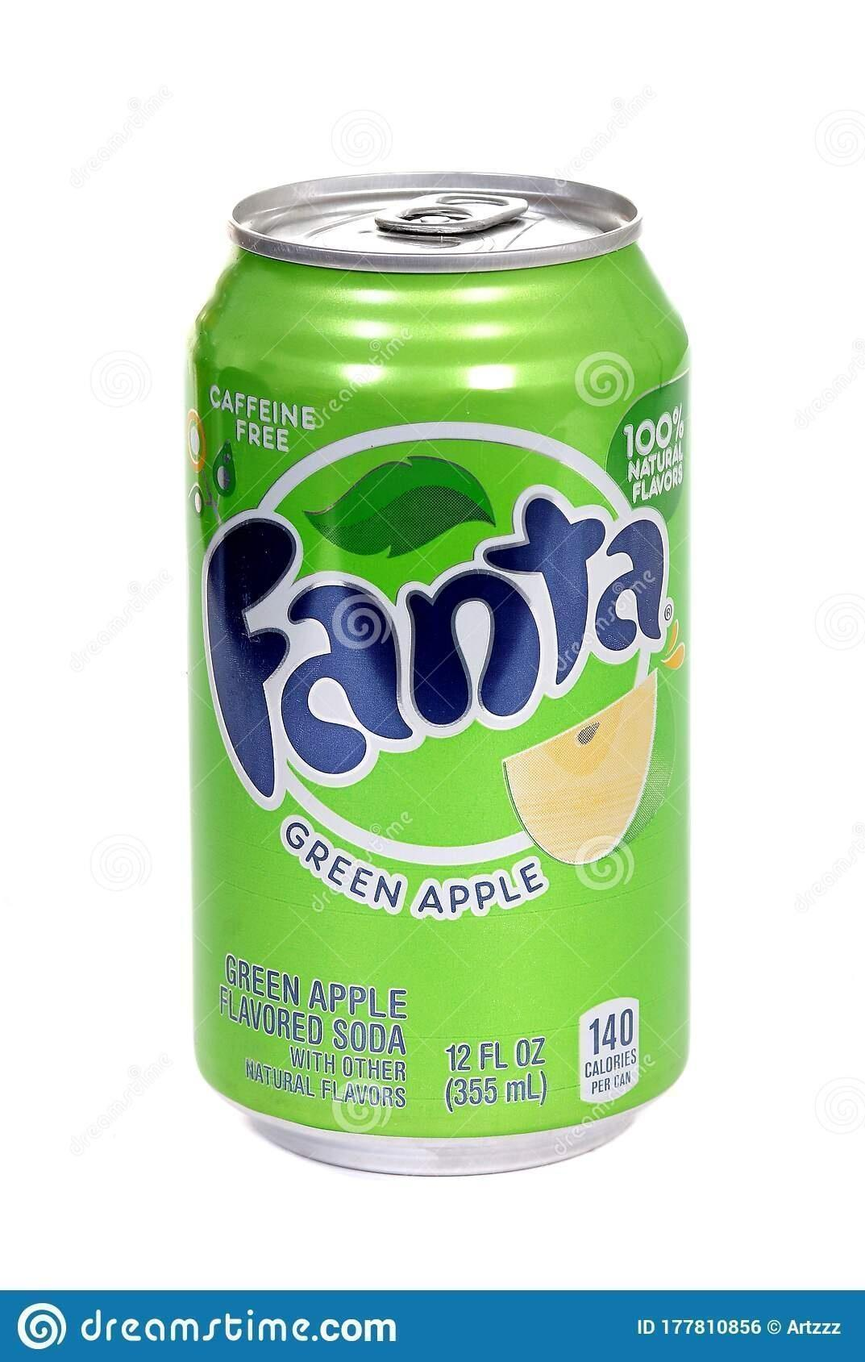tin can: (176, 156, 699, 1179)
